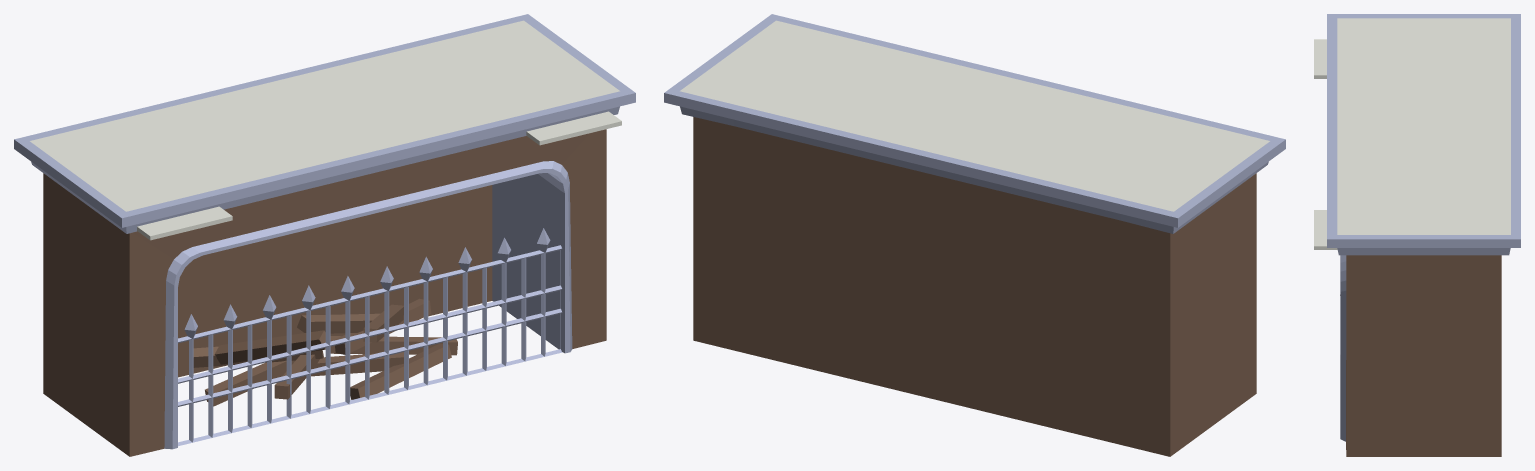
The model's file is SM_Blockout_Fireplace_01.fbx.
3 renders of one model, left to right at view 1: azimuth 30°, elevation 25°; view 2: azimuth 150°, elevation 25°; view 3: azimuth 270°, elevation 25°, orthographic. The views are drawn at different scales.
Visible parts, largest first — view 1: Fireplace_1; view 2: Fireplace_1; view 3: Fireplace_1.
Boxes of the visible parts, box(x1,y1,x2,y2) form: Fireplace_1: box(14, 14, 635, 456); Fireplace_1: box(664, 14, 1285, 456); Fireplace_1: box(1314, 14, 1520, 456).
Bounding box in the file's own units: 229 × 110 × 88.64.
